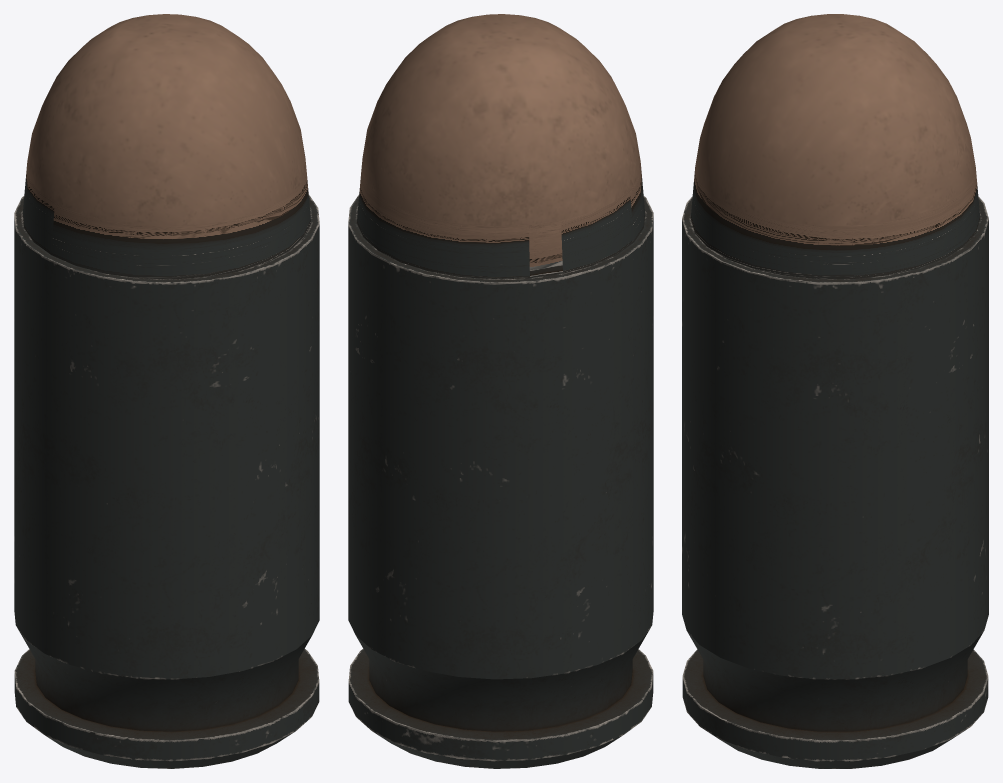
File: BalaMunicion.fbx
3 renders of one model, left to right at view 1: azimuth 30°, elevation 25°; view 2: azimuth 150°, elevation 25°; view 3: azimuth 270°, elevation 25°, orthographic.
Visible parts, largest first — view 1: Bullet; view 2: Bullet; view 3: Bullet.
Boxes of the visible parts, left/top/right/bottom form: Bullet: left=14, top=14, right=319, bottom=768; Bullet: left=348, top=14, right=653, bottom=768; Bullet: left=682, top=14, right=988, bottom=768.
Size of the model in its own units: 17.91 by 44.37 by 18.04.
1 material, 1 textured.
